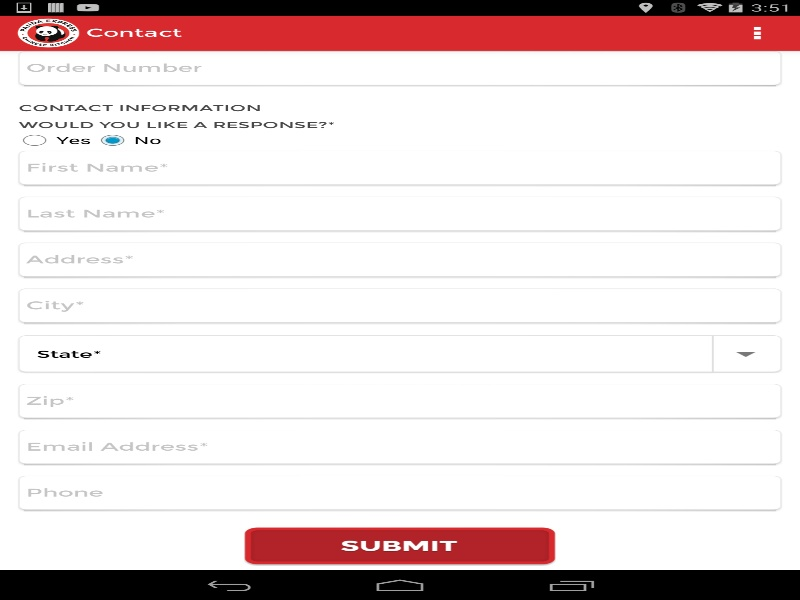Button: (244, 527, 556, 565)
Input: (13, 50, 786, 87), (13, 383, 786, 420), (13, 150, 786, 186), (13, 196, 786, 232), (13, 242, 786, 278), (13, 288, 786, 324), (13, 429, 786, 465), (13, 475, 786, 511)
